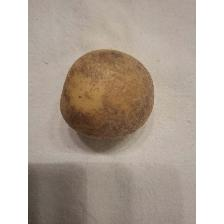Kartoffel: (59, 46, 157, 142)
